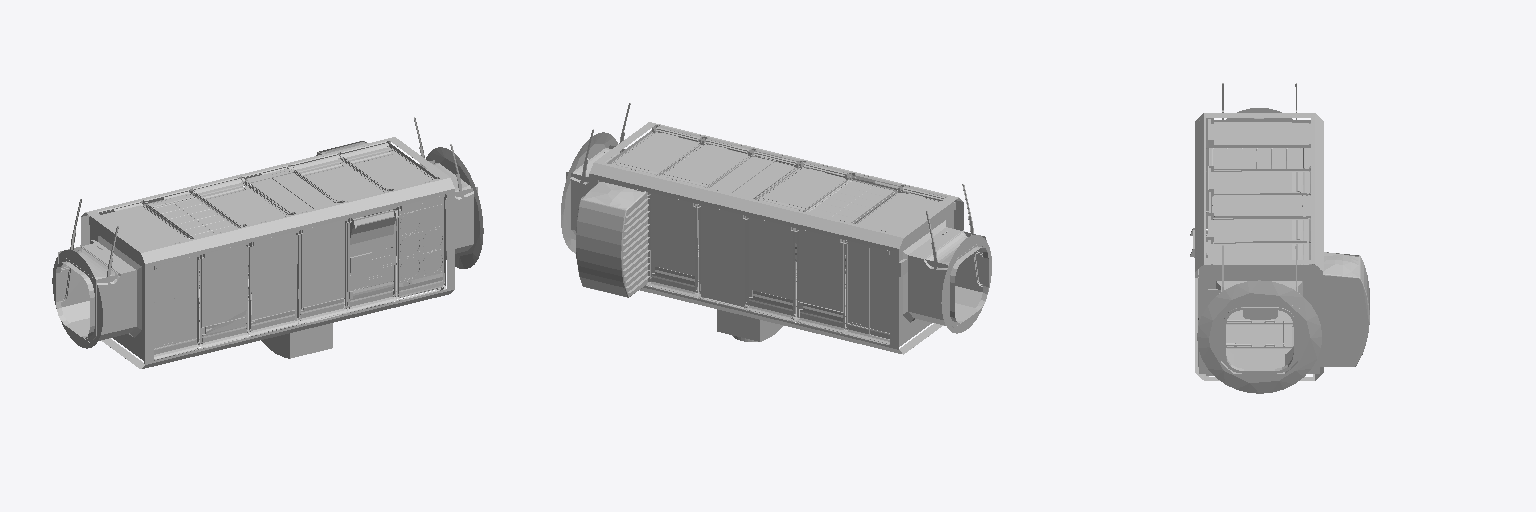
The model's file is us_lab.obj.
3 views of the same model, side by side, from view 1: azimuth 30°, elevation 25°; view 2: azimuth 150°, elevation 25°; view 3: azimuth 270°, elevation 25° (orthographic).
Visible parts, largest first — view 1: US_Lab_Int_AFT_Bulkhead; view 2: US_Lab_Int_AFT_Bulkhead; view 3: US_Lab_Int_AFT_Bulkhead.
Boxes of the visible parts, x1=… form: US_Lab_Int_AFT_Bulkhead: x1=52, y1=117, x2=483, y2=368; US_Lab_Int_AFT_Bulkhead: x1=561, y1=103, x2=991, y2=354; US_Lab_Int_AFT_Bulkhead: x1=1190, y1=83, x2=1369, y2=393.
Size of the model in its own units: 7.73 by 3.51 by 3.11.